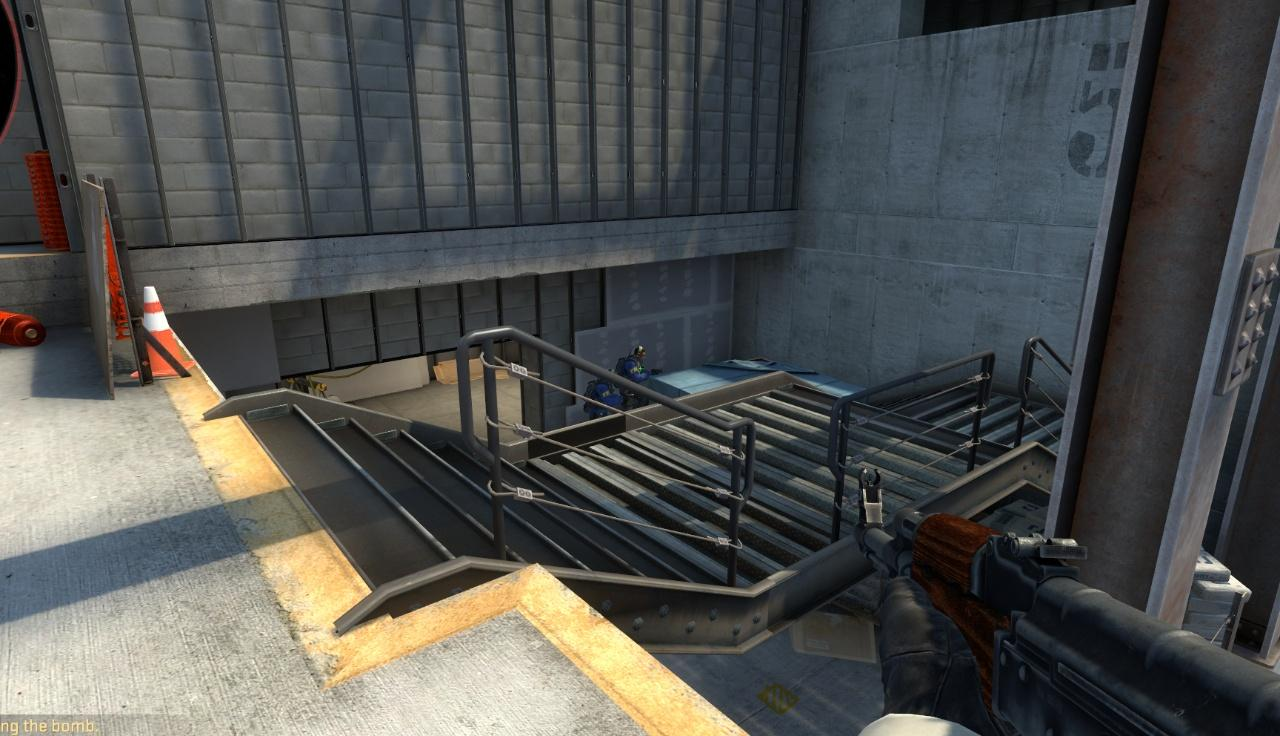ct: (615, 344, 657, 407), (583, 378, 624, 418)
cthead: (634, 346, 647, 362)
rifle: (854, 465, 1280, 732)
